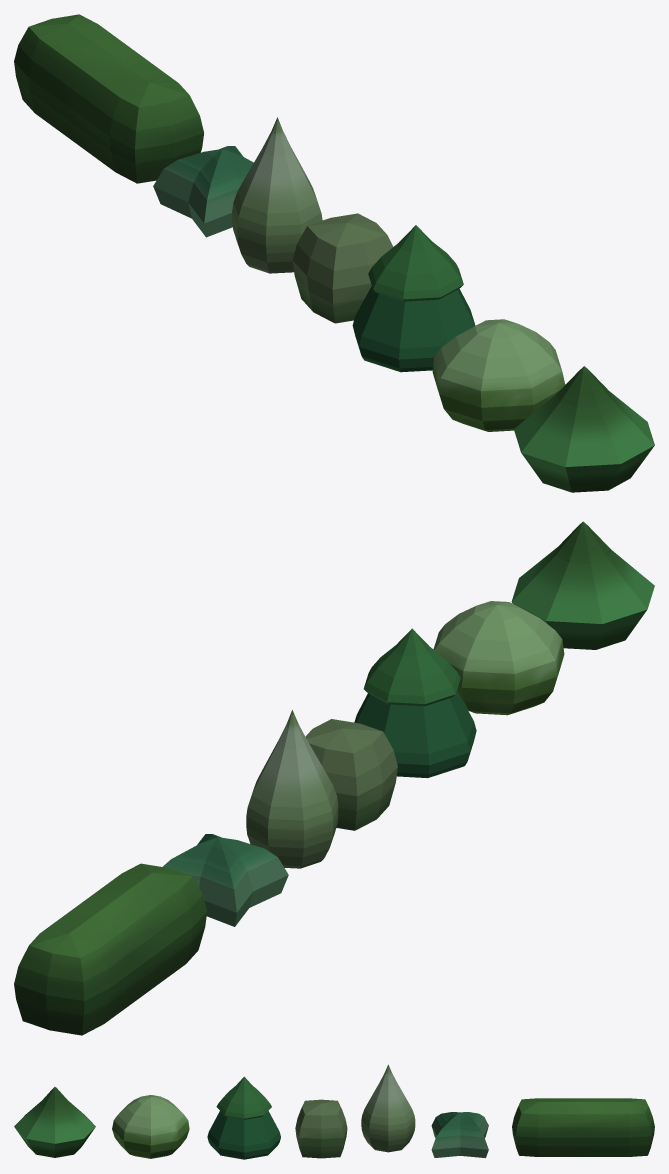
The model's file is Bushes.fbx.
3 views of the same model, one above another, from view 1: azimuth 30°, elevation 25°; view 2: azimuth 150°, elevation 25°; view 3: azimuth 270°, elevation 25° (orthographic). The views are drawn at different scales.
Visible parts, largest first — view 1: Cylinder.005, Cylinder, Cylinder.006, Cylinder.001, Cylinder.004, Cylinder.002, Cylinder.003; view 2: Cylinder.005, Cylinder, Cylinder.006, Cylinder.001, Cylinder.004, Cylinder.002, Cylinder.003; view 3: Cylinder.005, Cylinder, Cylinder.001, Cylinder.006, Cylinder.004, Cylinder.002, Cylinder.003.
Part boxes in pixels (bbox=[...]): Cylinder.005: bbox=[14, 14, 203, 183]; Cylinder: bbox=[352, 225, 475, 372]; Cylinder.006: bbox=[514, 366, 654, 492]; Cylinder.001: bbox=[432, 319, 565, 431]; Cylinder.004: bbox=[232, 117, 322, 273]; Cylinder.002: bbox=[292, 213, 393, 323]; Cylinder.003: bbox=[153, 146, 253, 237]; Cylinder.005: bbox=[14, 863, 207, 1035]; Cylinder: bbox=[354, 628, 476, 778]; Cylinder.006: bbox=[511, 521, 654, 649]; Cylinder.001: bbox=[433, 601, 564, 715]; Cylinder.004: bbox=[246, 710, 338, 868]; Cylinder.002: bbox=[305, 719, 397, 830]; Cylinder.003: bbox=[162, 834, 288, 926]; Cylinder.005: bbox=[512, 1098, 654, 1156]; Cylinder: bbox=[207, 1076, 280, 1159]; Cylinder.001: bbox=[112, 1095, 189, 1158]; Cylinder.006: bbox=[14, 1087, 95, 1157]; Cylinder.004: bbox=[361, 1064, 415, 1152]; Cylinder.002: bbox=[295, 1099, 347, 1158]; Cylinder.003: bbox=[431, 1112, 488, 1158].
Bounding box in the file's own units: 41.14 × 45.36 × 321.
